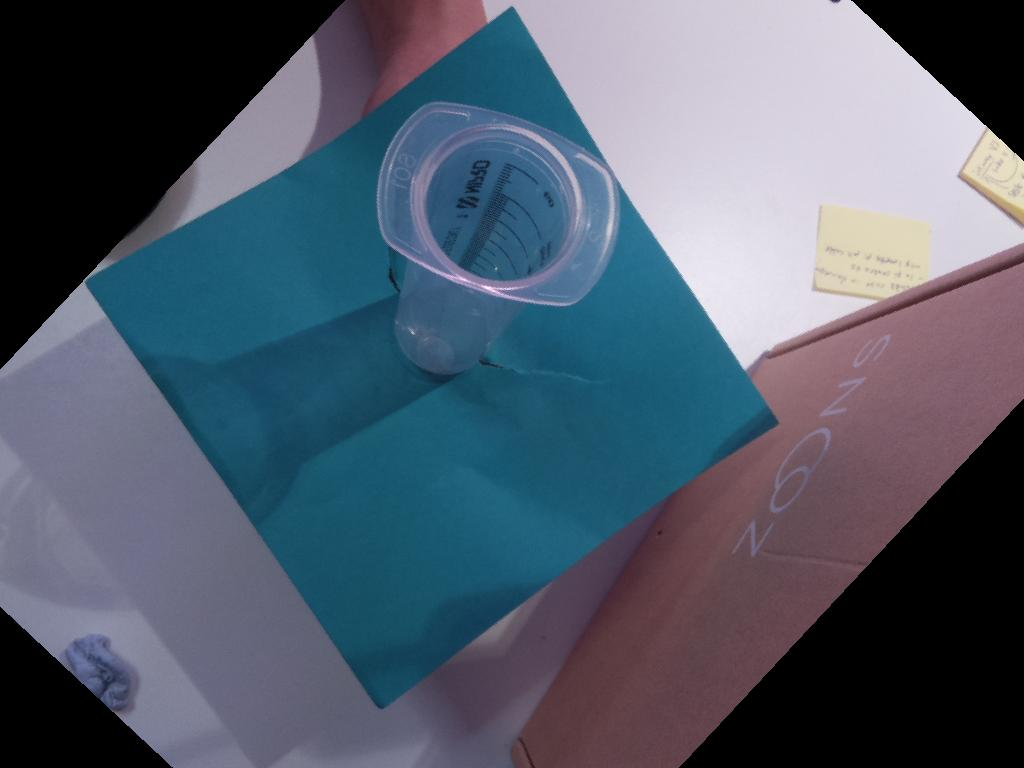clean: (376, 99, 623, 309)
